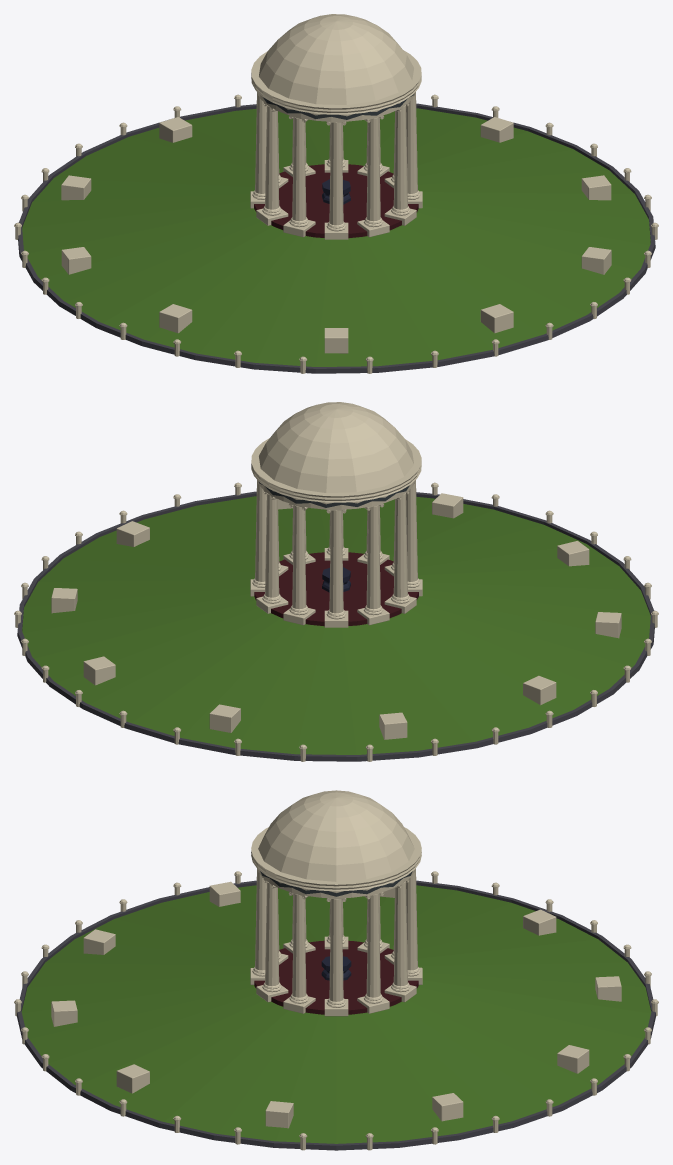
File: MonumentoLod3.fbx
3 views of the same model, one above another, from view 1: azimuth 30°, elevation 25°; view 2: azimuth 150°, elevation 25°; view 3: azimuth 270°, elevation 25° (orthographic).
Visible parts, largest first — view 1: Cube.001; view 2: Cube.001; view 3: Cube.001.
Part boxes in pixels (box(x1,y1,x2,y2)): Cube.001: box(14, 14, 658, 373); Cube.001: box(14, 402, 658, 761); Cube.001: box(14, 790, 658, 1150).
Size of the model in its own units: 2611 by 977 by 2625.
